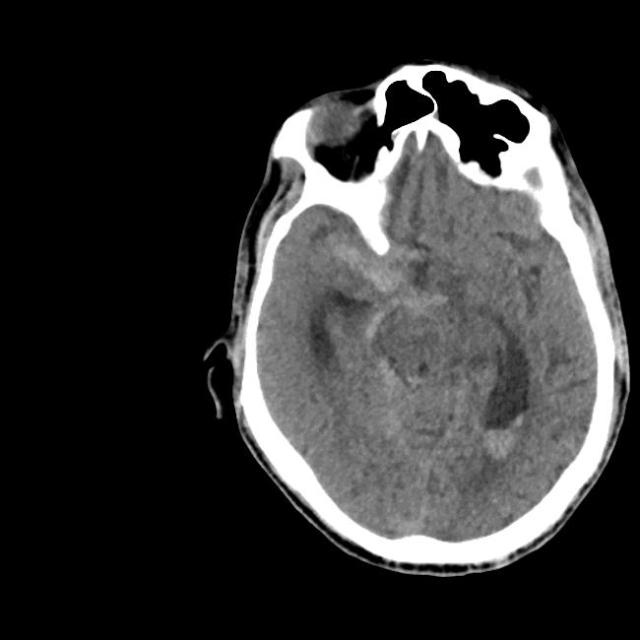lesion: (201, 58, 632, 577)
